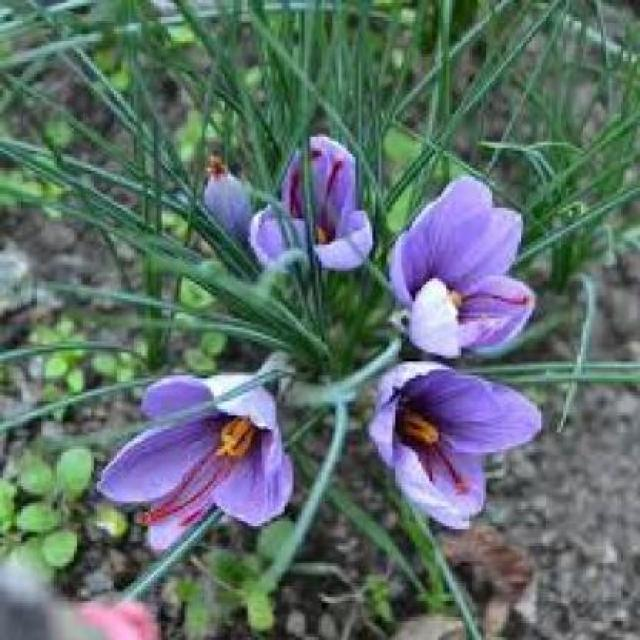saffron open: (102, 362, 292, 547), (371, 360, 540, 523), (391, 179, 534, 357), (255, 136, 372, 271)
